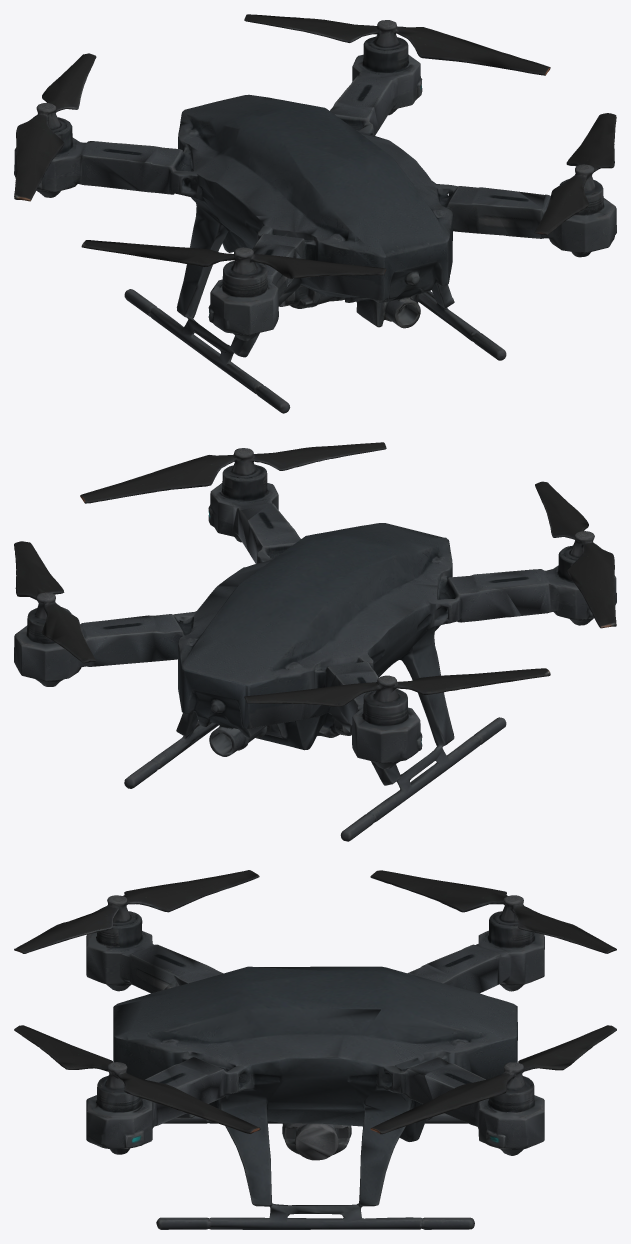
The model's file is drone-combat-futuriste.glb.
The picture shows the model from 3 angles, top to bottom: view 1: azimuth 30°, elevation 25°; view 2: azimuth 150°, elevation 25°; view 3: azimuth 270°, elevation 25°; orthographic projection.
Visible parts, largest first — view 1: Mesh_0; view 2: Mesh_0; view 3: Mesh_0.
Part boxes in pixels (x1,y1,x2,y2): Mesh_0: (14, 14, 616, 413); Mesh_0: (14, 442, 616, 841); Mesh_0: (14, 870, 616, 1229).
Size of the model in its own units: 0.5788 by 0.2 by 0.5615.
1 material, 1 textured.
